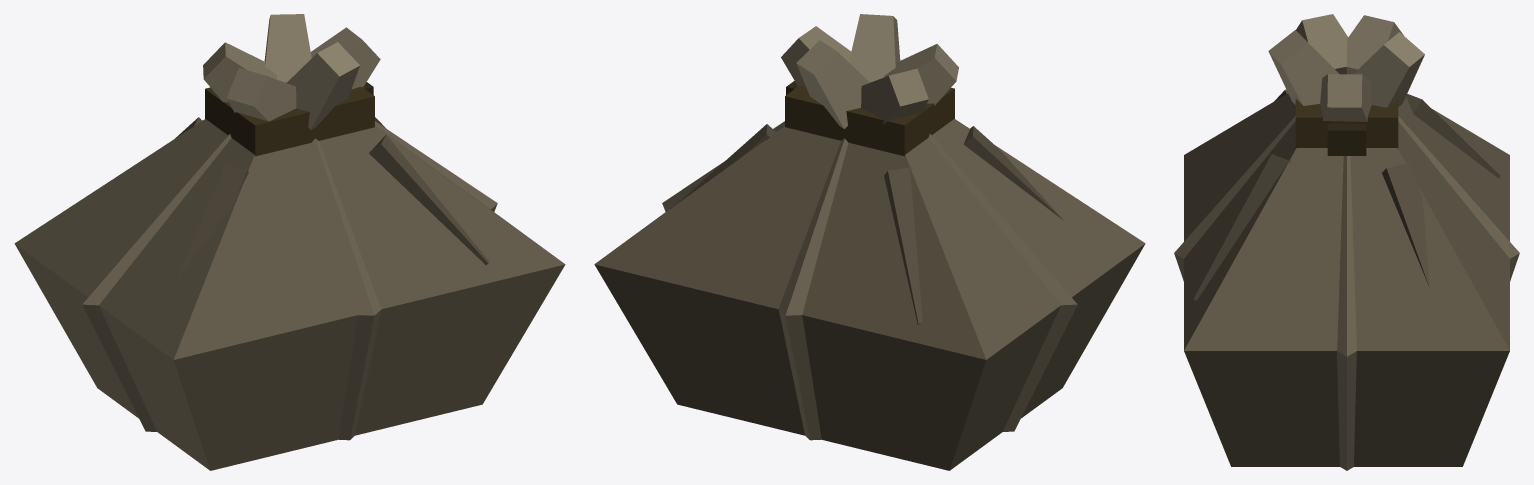
Rendered from FlourSack.glb.
The picture shows the model from 3 angles, left to right: view 1: azimuth 30°, elevation 25°; view 2: azimuth 150°, elevation 25°; view 3: azimuth 270°, elevation 25°; orthographic projection. The views are drawn at different scales.
Visible parts, largest first — view 1: FlourSack; view 2: FlourSack; view 3: FlourSack.
Part boxes in pixels (left/top/right/bottom): FlourSack: left=14, top=14, right=565, bottom=470; FlourSack: left=594, top=14, right=1145, bottom=470; FlourSack: left=1174, top=14, right=1519, bottom=470.
Size of the model in its own units: 0.4582 by 0.3806 by 0.3224.
